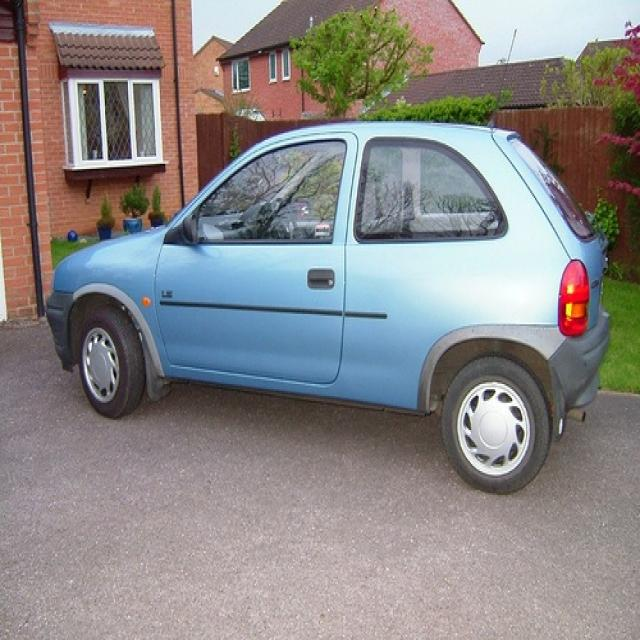car: (45, 118, 613, 495)
